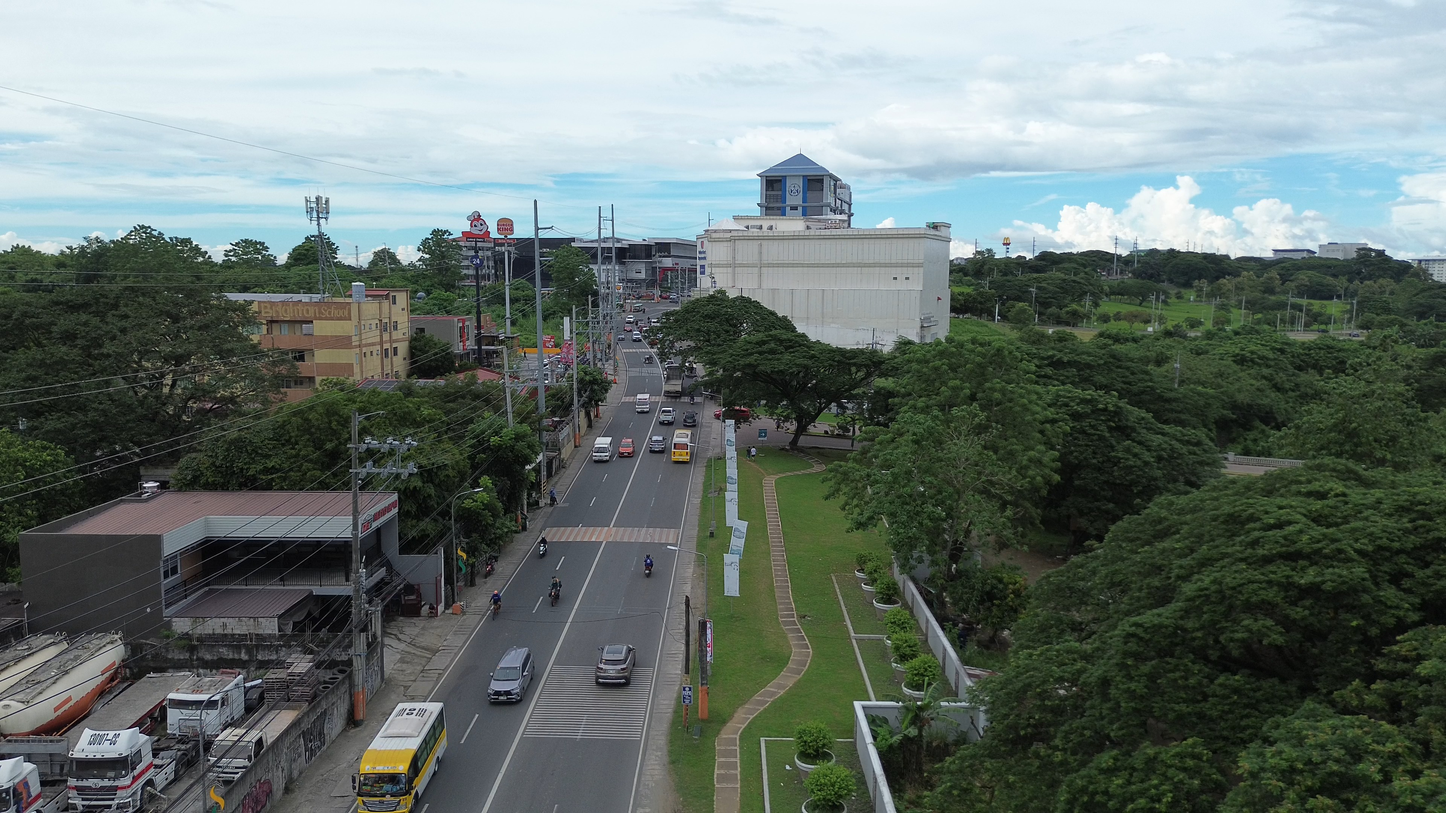bus: (354, 703, 446, 813), (671, 430, 691, 462)
car: (595, 644, 635, 684), (648, 435, 666, 452), (730, 408, 750, 421), (682, 411, 697, 426), (650, 317, 660, 326)
motorcycle: (484, 556, 495, 578), (549, 587, 560, 605), (538, 540, 547, 558), (645, 564, 652, 577)
truck: (0, 755, 68, 813), (663, 363, 683, 397)
vehicle: (0, 633, 124, 736), (68, 728, 189, 813), (208, 703, 304, 783), (167, 669, 244, 739), (0, 633, 68, 694), (0, 756, 68, 813), (487, 646, 534, 702), (663, 363, 682, 397), (714, 406, 750, 422), (591, 437, 613, 461), (618, 438, 635, 457), (635, 393, 651, 413), (658, 407, 676, 424), (538, 538, 547, 558), (631, 330, 642, 342), (625, 314, 635, 326), (644, 354, 653, 364), (650, 318, 660, 326)
